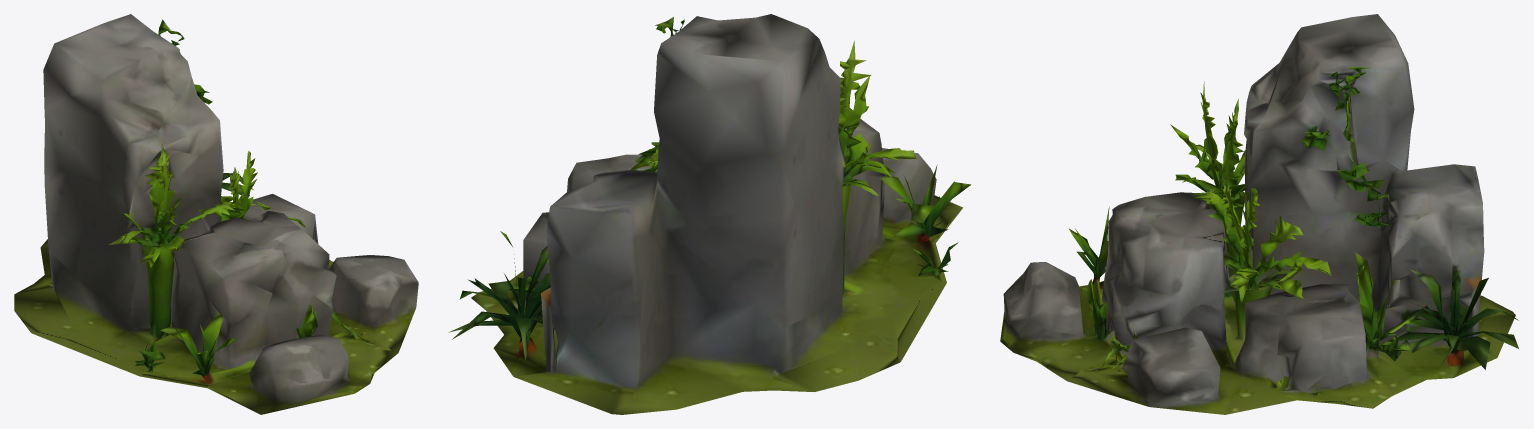
File: rocks.glb
The picture shows the model from 3 angles, left to right: view 1: azimuth 30°, elevation 25°; view 2: azimuth 150°, elevation 25°; view 3: azimuth 270°, elevation 25°; orthographic projection. The views are drawn at different scales.
Parts seen in each view (by area): view 1: tripo_node_d4e1fe7f-45e2-4c14-a395-72361fbca485; view 2: tripo_node_d4e1fe7f-45e2-4c14-a395-72361fbca485; view 3: tripo_node_d4e1fe7f-45e2-4c14-a395-72361fbca485.
Boxes of the visible parts, box(x1,y1,x2,y2) form: tripo_node_d4e1fe7f-45e2-4c14-a395-72361fbca485: box(14, 14, 418, 414); tripo_node_d4e1fe7f-45e2-4c14-a395-72361fbca485: box(448, 14, 970, 414); tripo_node_d4e1fe7f-45e2-4c14-a395-72361fbca485: box(1000, 14, 1518, 414).
Size of the model in its own units: 0.7504 by 0.5563 by 0.9804.
1 material, 1 textured.
